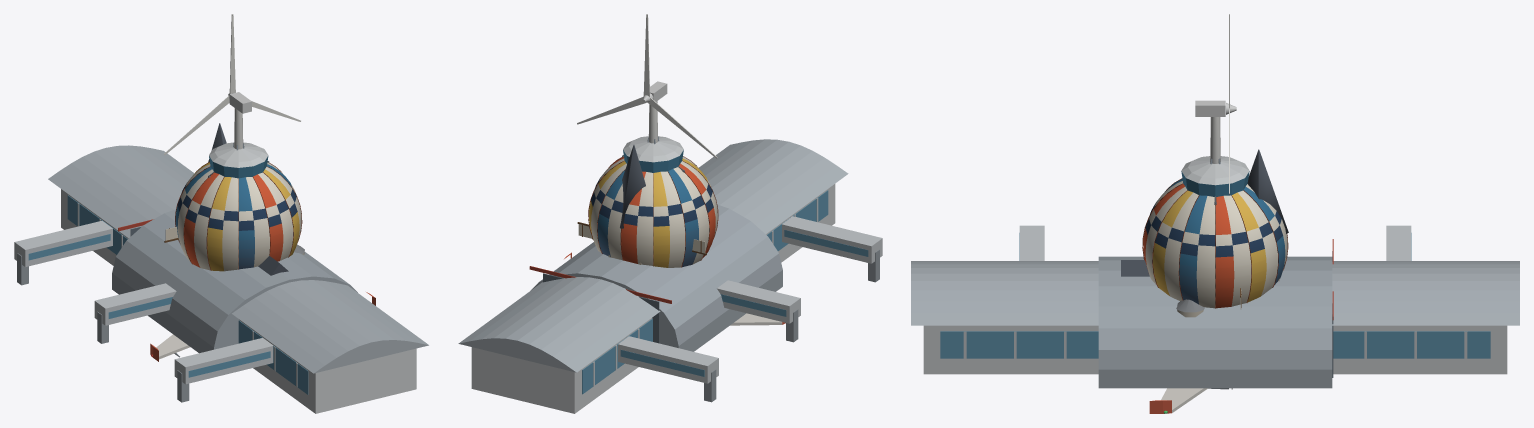
The model's file is flock-kit.glb.
3 renders of one model, left to right at view 1: azimuth 30°, elevation 25°; view 2: azimuth 150°, elevation 25°; view 3: azimuth 270°, elevation 25°, orthographic. The views are drawn at different scales.
Parts seen in each view (by area): view 1: terminal, hangar, balloon, control_tower, turbine_rotor, turbine_tower, airliner, church; view 2: terminal, hangar, balloon, control_tower, turbine_rotor, church, turbine_tower, airliner; view 3: terminal, hangar, balloon, control_tower, church, turbine_tower, airliner.
Boxes of the visible parts, <box> form: terminal: <box>14,145,428,413</box>; hangar: <box>112,209,357,353</box>; balloon: <box>175,162,302,271</box>; control_tower: <box>209,142,268,178</box>; turbine_rotor: <box>164,14,300,154</box>; turbine_tower: <box>229,92,251,149</box>; airliner: <box>150,292,375,361</box>; church: <box>208,123,288,275</box>; terminal: <box>458,139,882,413</box>; hangar: <box>529,204,782,351</box>; balloon: <box>588,156,718,267</box>; control_tower: <box>623,136,683,172</box>; turbine_rotor: <box>577,14,717,158</box>; church: <box>608,145,645,264</box>; turbine_tower: <box>648,81,667,143</box>; airliner: <box>564,252,785,325</box>; terminal: <box>911,225,1519,374</box>; hangar: <box>1098,239,1333,388</box>; balloon: <box>1142,178,1288,308</box>; control_tower: <box>1181,156,1249,196</box>; church: <box>1121,149,1288,281</box>; turbine_tower: <box>1195,100,1225,163</box>; airliner: <box>1149,388,1232,413</box>.
Size of the model in its own units: 39.39 by 46.77 by 73.
